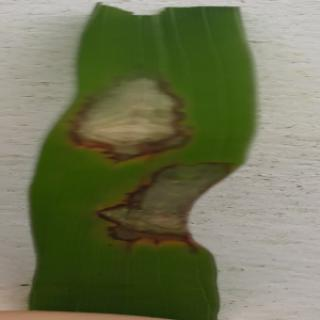Blast: (99, 162, 230, 260), (80, 77, 194, 157)
